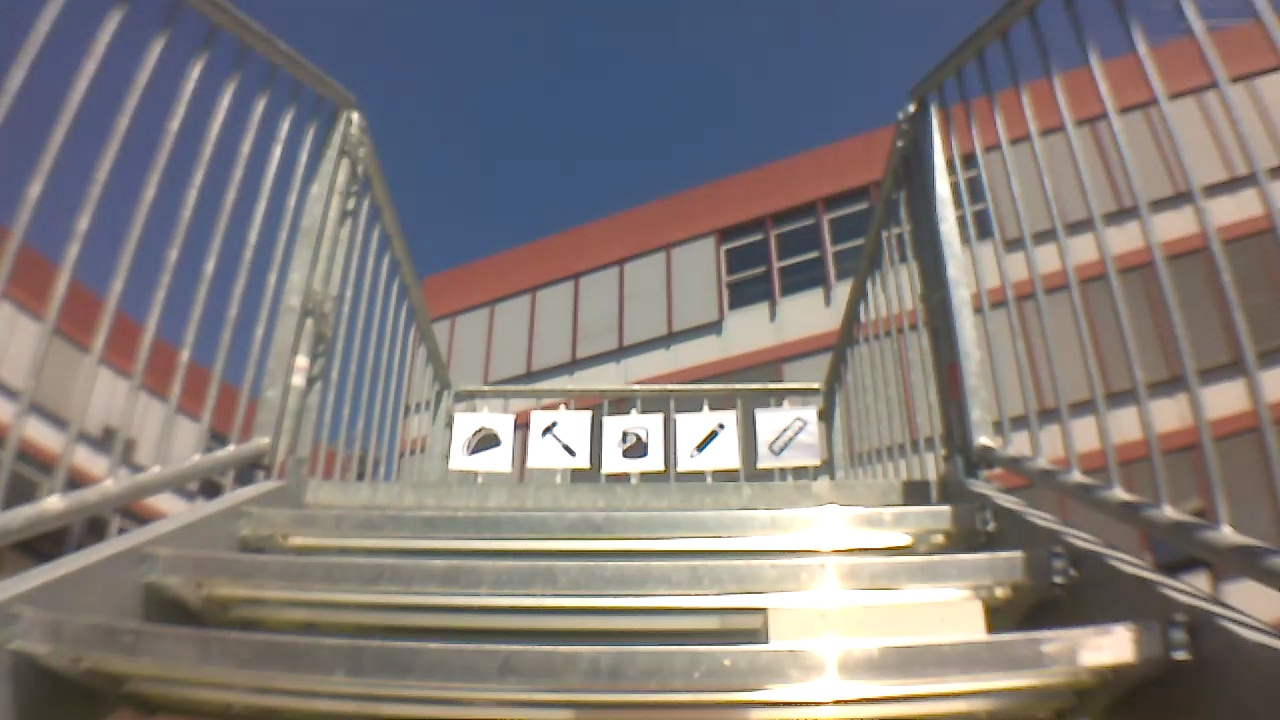brick: (767, 596, 994, 662)
bucket: (613, 424, 649, 461)
edge: (0, 618, 1204, 686), (132, 537, 1033, 596), (238, 500, 994, 534), (271, 478, 947, 504)
hammer: (534, 416, 580, 461)
pencil: (683, 419, 731, 463)
ruler: (767, 414, 805, 456)
stairs: (5, 5, 1280, 720)
taco: (462, 420, 502, 461)
